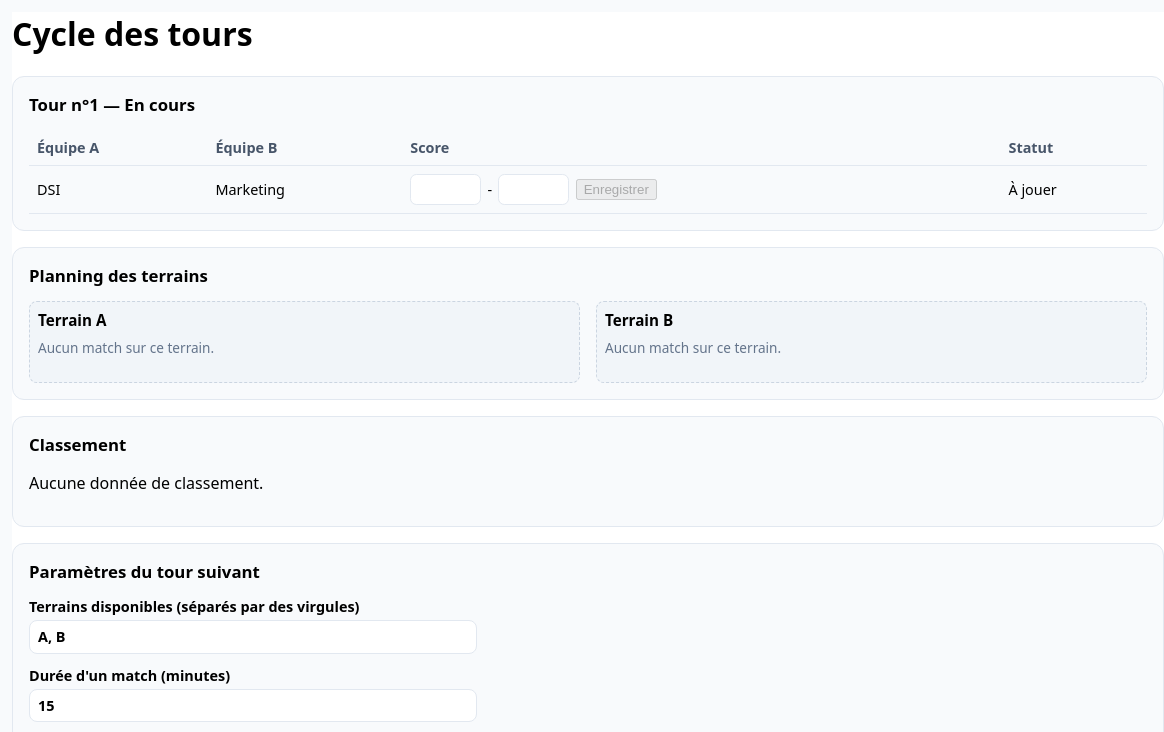
AdminTourPage › Saisie du score d'un match › affiche un message d'erreur si l'enregistrement du score échoue
expect the heading "Tour n°1 — En cours" is shown: met, box [29,93,195,116]
Type "3" into the number field named "Score DSI" at [446, 190], box [410,174,481,205]
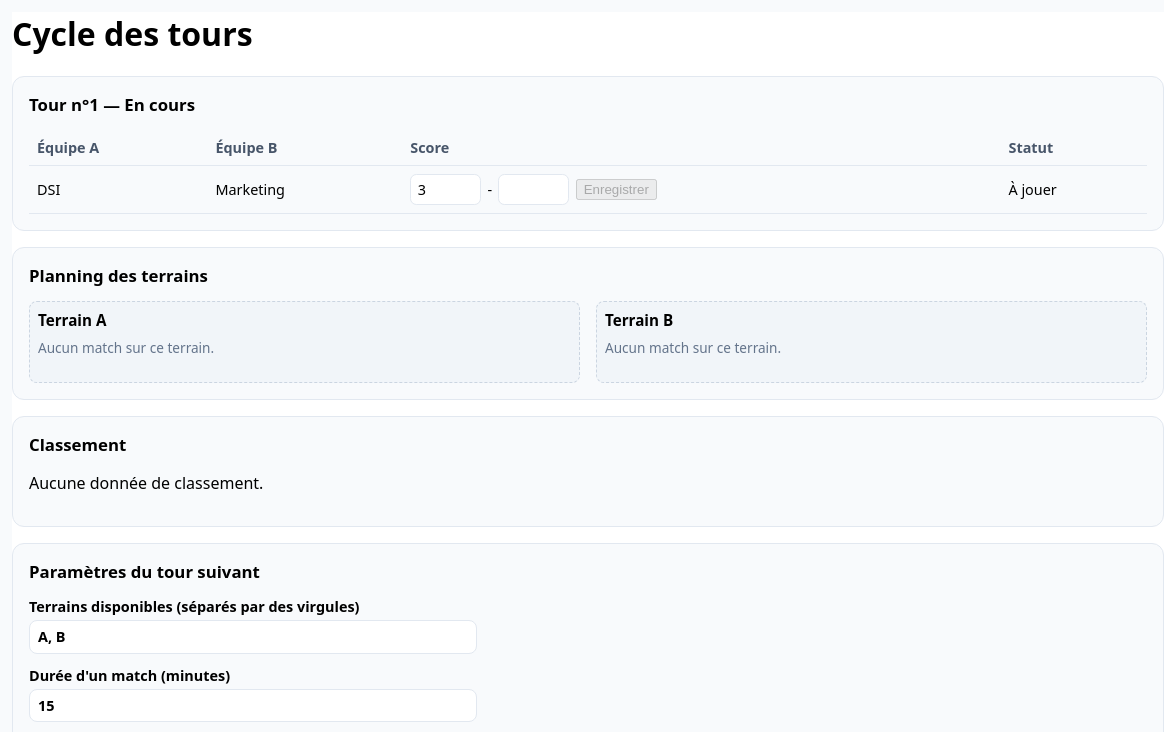
Type "1" into the number field named "Score Marketing" at [534, 190], box [498,174,569,205]
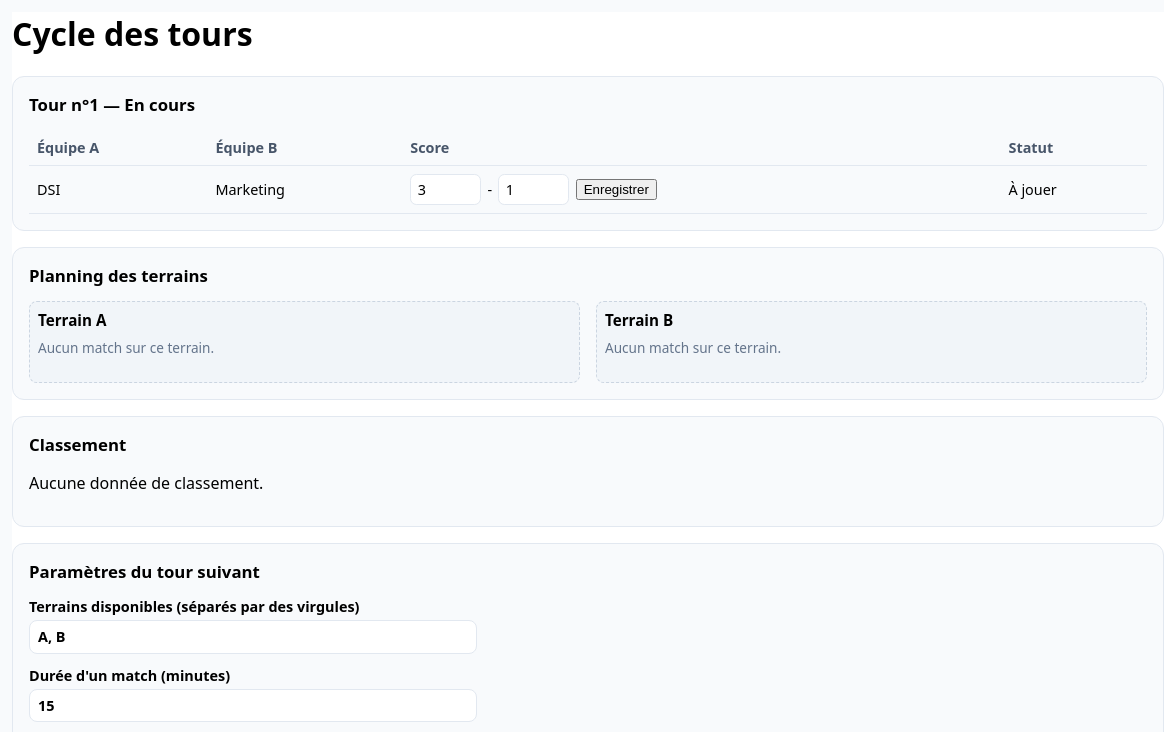
Click the button "Enregistrer" at [616, 190], box [576,179,657,200]
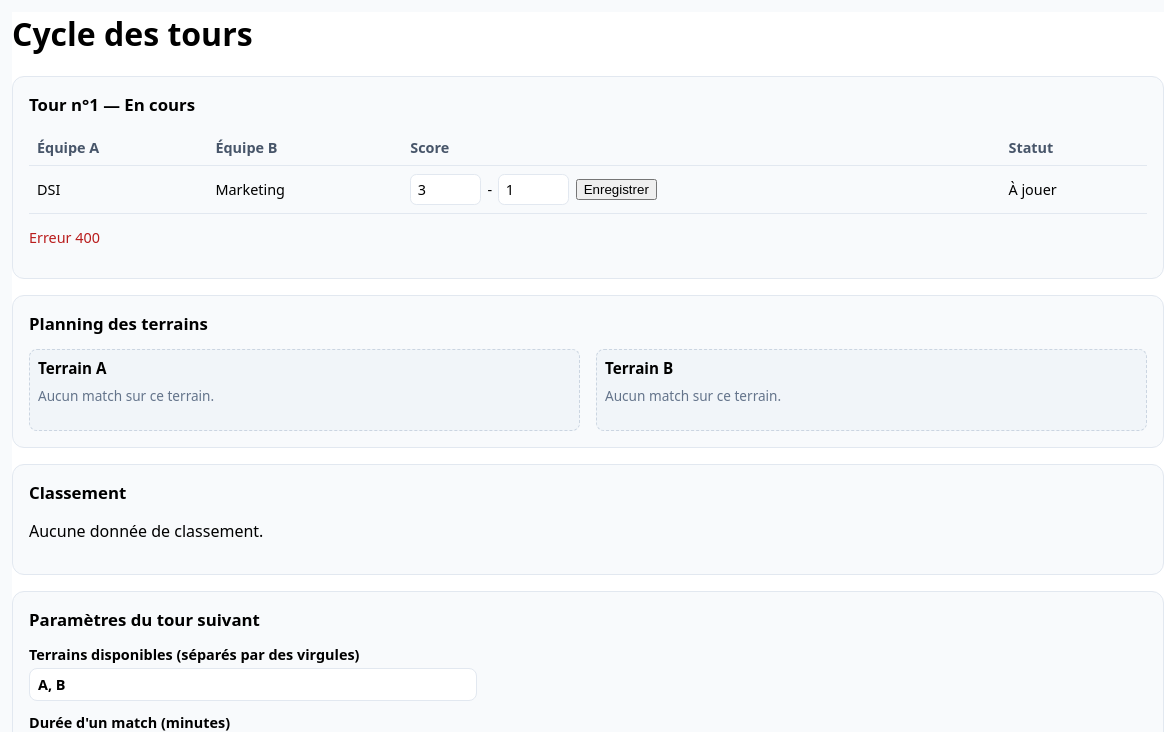
expect the text "Erreur 400" is shown: met, box [29,228,100,247]
